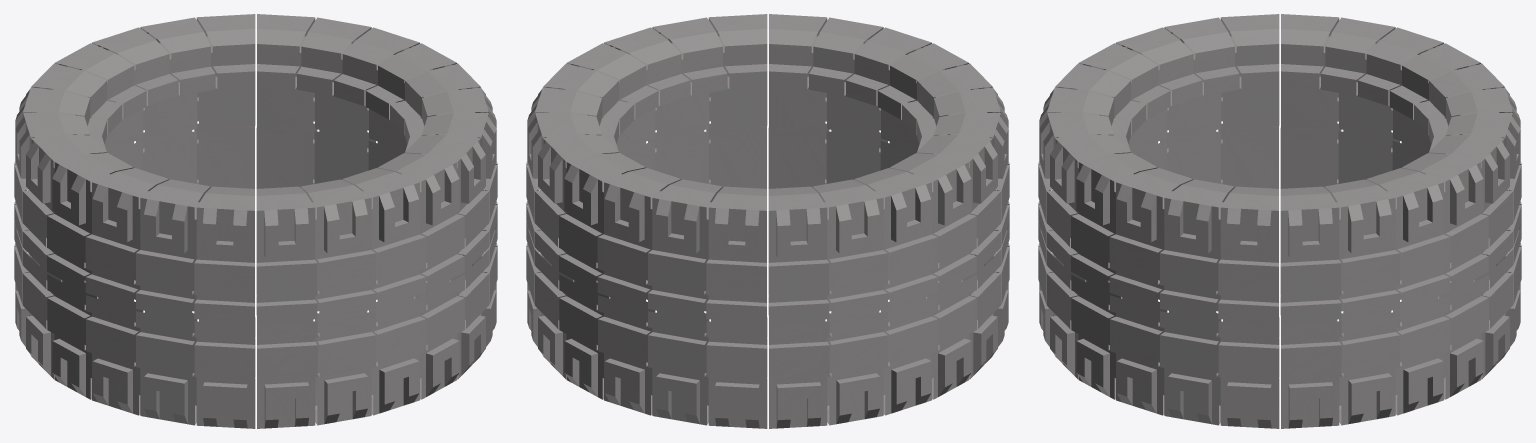
Rendered from tire_43x22_ZR.dae.
The picture shows the model from 3 angles, left to right: view 1: azimuth 30°, elevation 25°; view 2: azimuth 150°, elevation 25°; view 3: azimuth 270°, elevation 25°; orthographic projection.
Parts seen in each view (by area): view 1: node; view 2: node; view 3: node.
Part boxes in pixels (x1=…): node: x1=14, y1=14, x2=497, y2=428; node: x1=526, y1=14, x2=1009, y2=428; node: x1=1038, y1=14, x2=1521, y2=428.
Bounding box in the file's own units: 108 × 53.5 × 108.
1 material, 1 textured.
